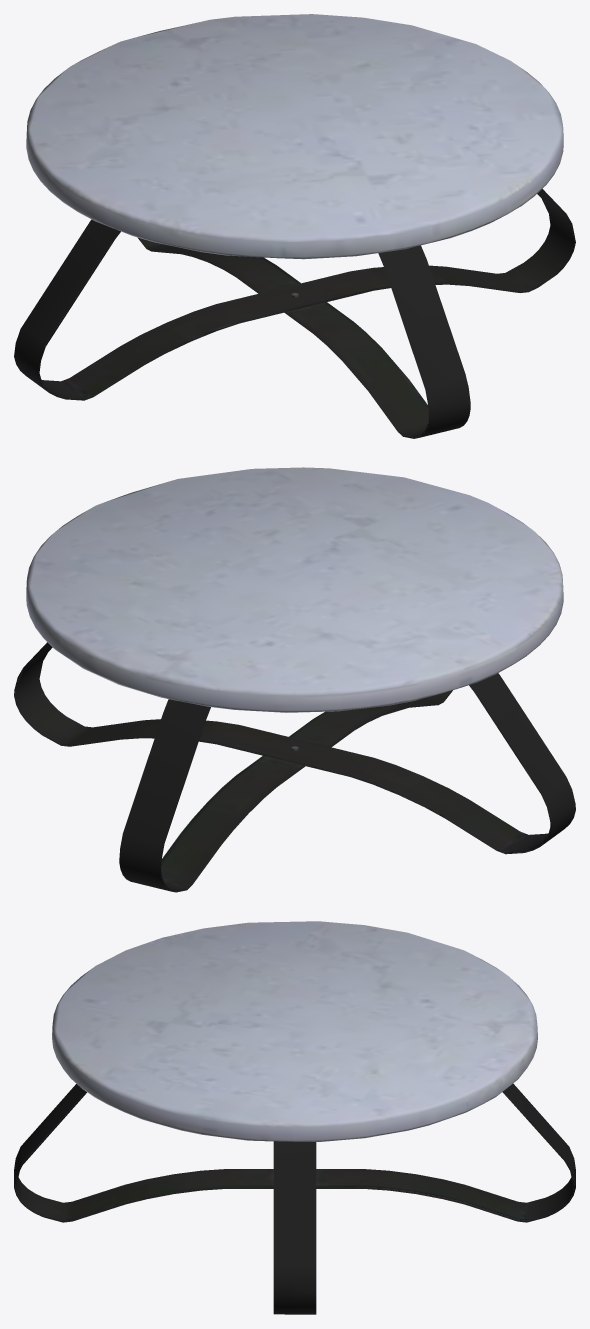
The model's file is coffee_table_round_01_2k.glb.
The picture shows the model from 3 angles, top to bottom: view 1: azimuth 30°, elevation 25°; view 2: azimuth 150°, elevation 25°; view 3: azimuth 270°, elevation 25°; orthographic projection. The views are drawn at different scales.
Parts seen in each view (by area): view 1: coffee_table_round_01; view 2: coffee_table_round_01; view 3: coffee_table_round_01.
Boxes of the visible parts, left/top/right/bottom form: coffee_table_round_01: left=14, top=14, right=575, bottom=438; coffee_table_round_01: left=14, top=467, right=575, bottom=892; coffee_table_round_01: left=14, top=921, right=575, bottom=1314.
Bounding box in the file's own units: 1.3 × 0.4899 × 1.3.
Materials: 1 (1 with a texture image).
